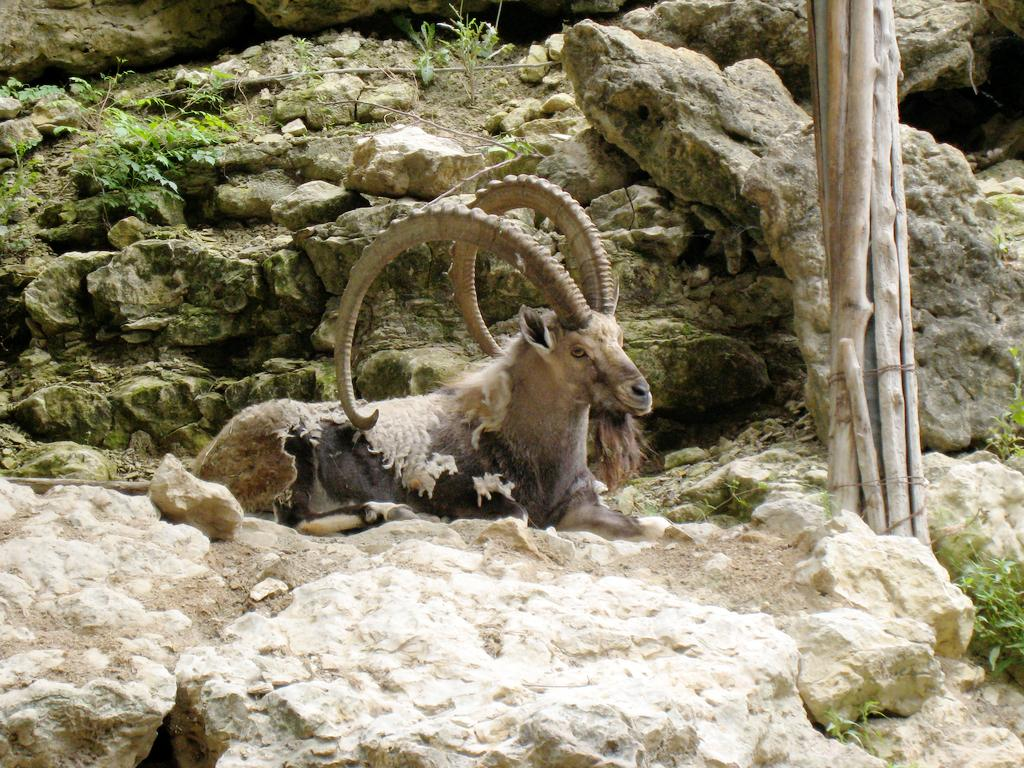Sheep: (190, 174, 672, 540)
